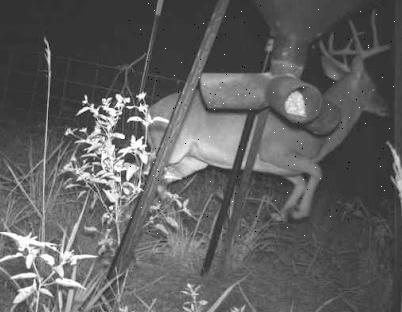Deer: (129, 2, 396, 236)
